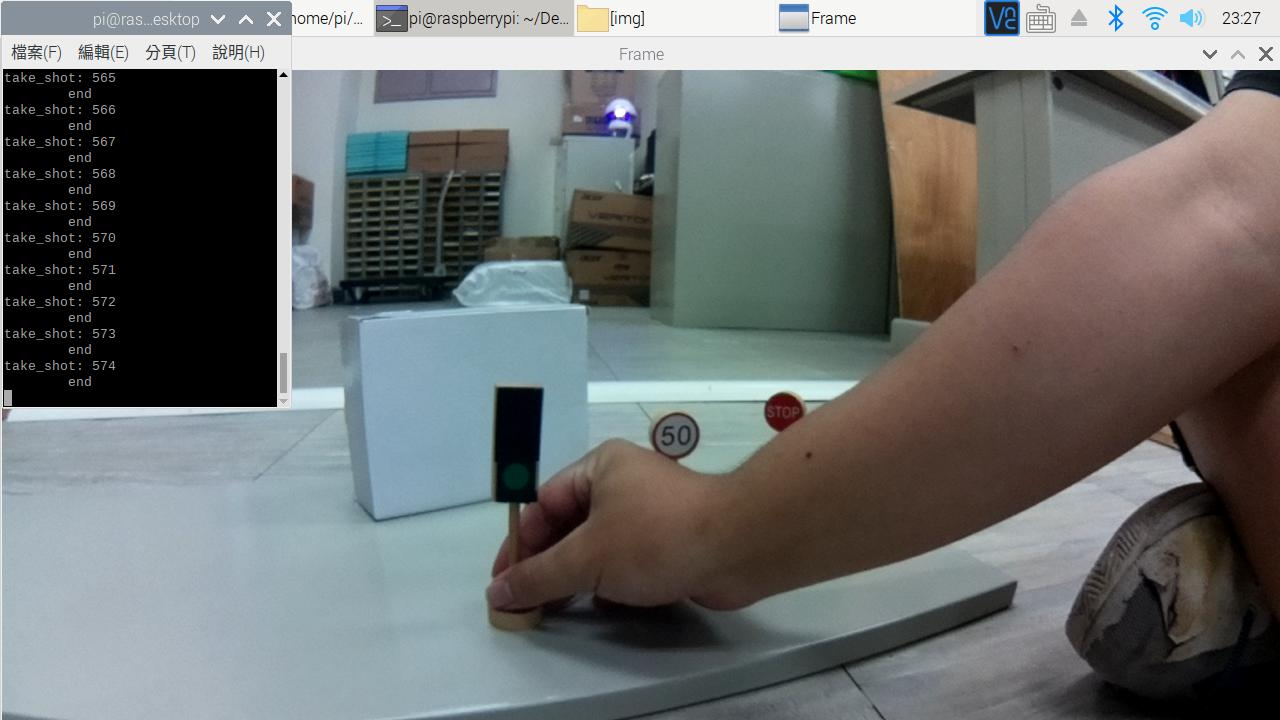Green: (486, 379, 550, 513)
Speed50: (651, 401, 709, 464)
Stop: (751, 382, 812, 434)
